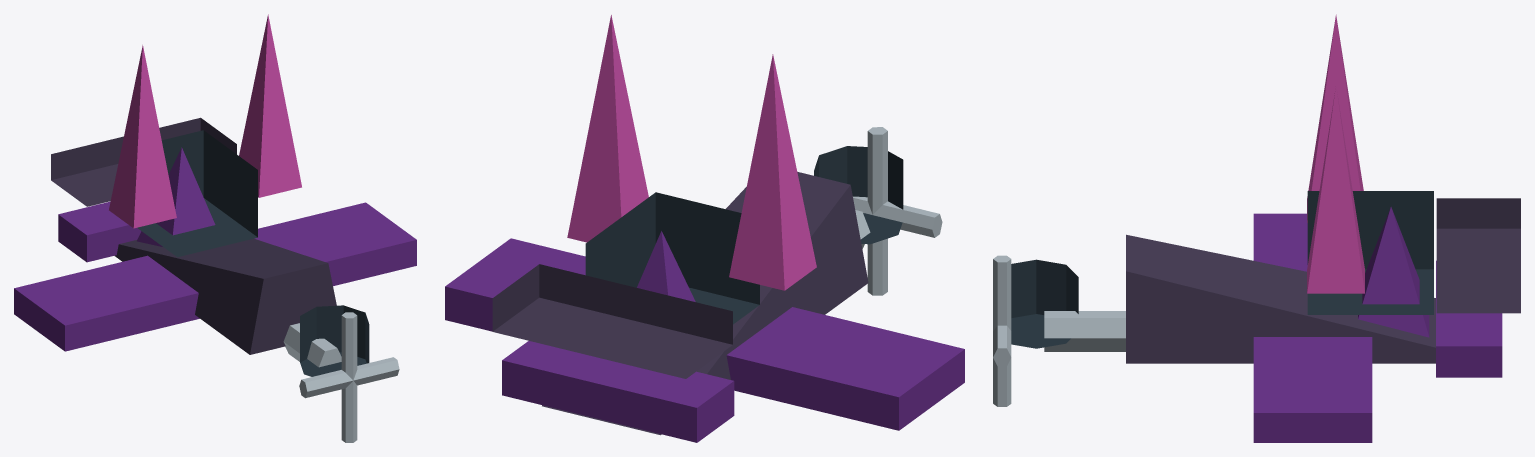
File: air.obj
The picture shows the model from 3 angles, left to right: view 1: azimuth 30°, elevation 25°; view 2: azimuth 150°, elevation 25°; view 3: azimuth 270°, elevation 25°; orthographic projection. The views are drawn at different scales.
Visible parts, largest first — view 1: air; view 2: air; view 3: air.
Part boxes in pixels (box(x1,y1,x2,y2)): air: box(14, 14, 416, 442); air: box(445, 15, 964, 442); air: box(993, 14, 1520, 442).
Size of the model in its own units: 1.63 by 1.35 by 1.82.
